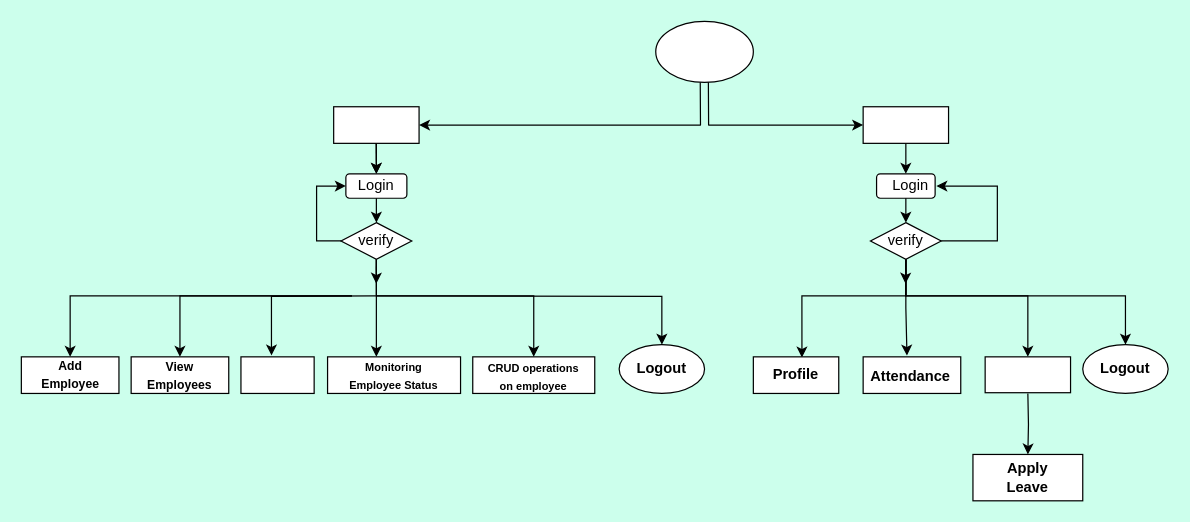
The diagram is 1190 pixels wide and 522 high, and some of its shapes have lost their labels. The centre of each missing label's shape, as x and y in pixels:
Admin: the point at 375,124
Employee: the point at 905,124
Grant Leave: the point at 277,374
Home: the point at 704,51
Leave: the point at 1027,374
